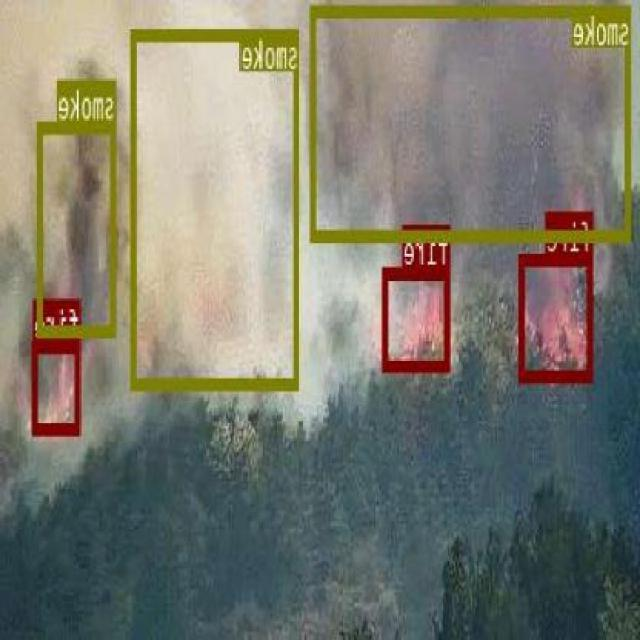Fire: (521, 252, 594, 380), (384, 266, 452, 368), (33, 338, 82, 432)
Smoke: (312, 3, 632, 240), (132, 28, 300, 388), (38, 121, 117, 334)
